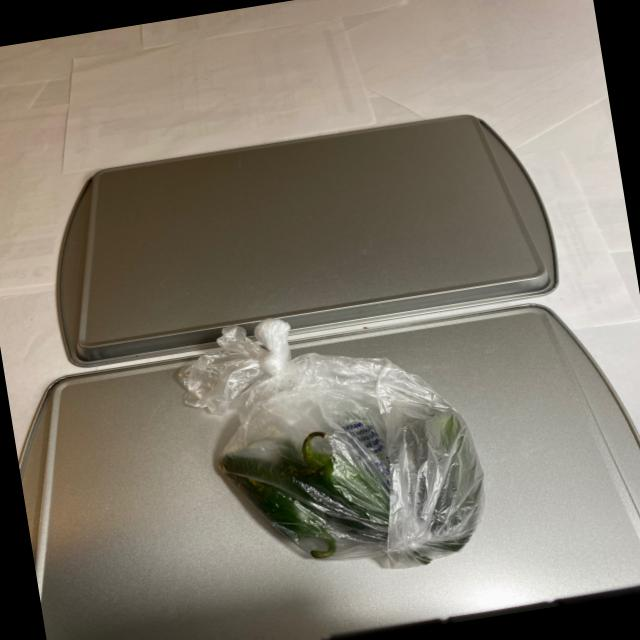chilli: (202, 374, 502, 592)
